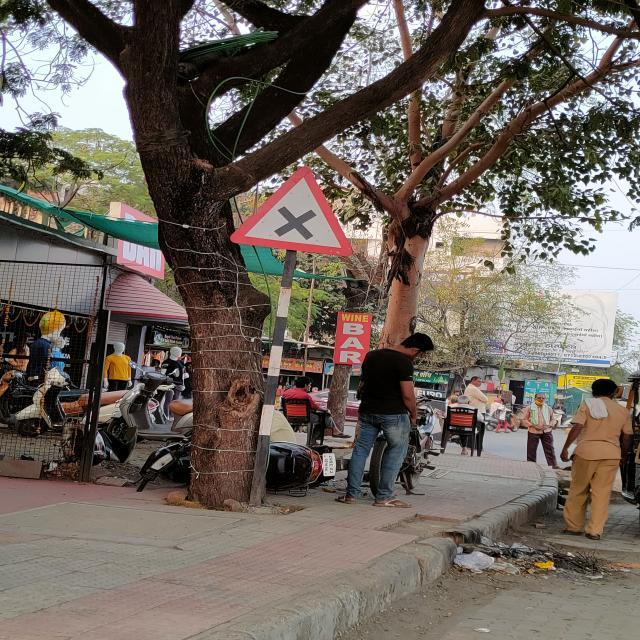cross road: (222, 162, 357, 259)
